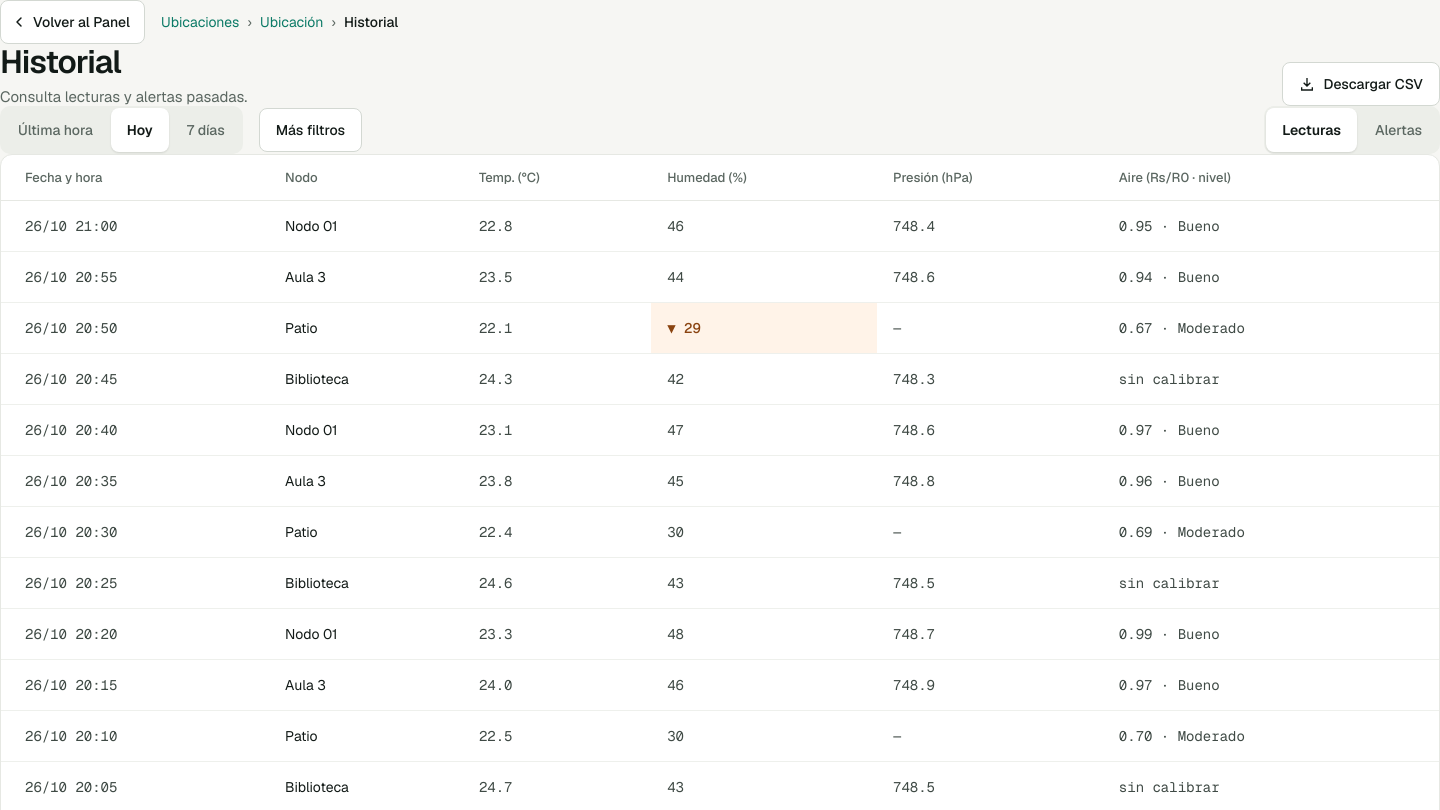
Test: Historial › valida fechas y muestra el estado vacío sin habilitar CSV
Click the button "7 días".
click(206, 130)  # box [171,108,241,152]
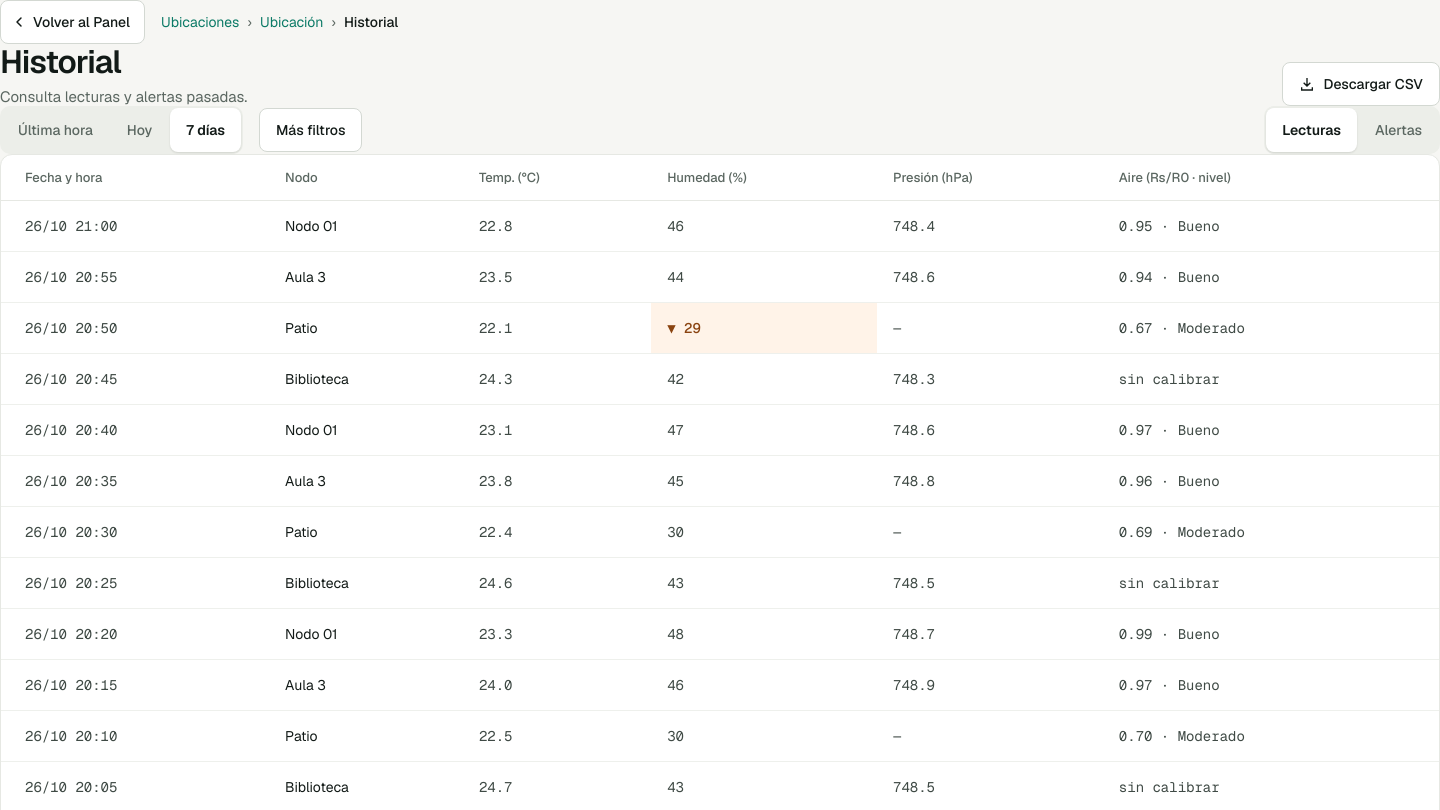
Click the button "Más filtros".
click(311, 130)  # box [259,108,362,152]
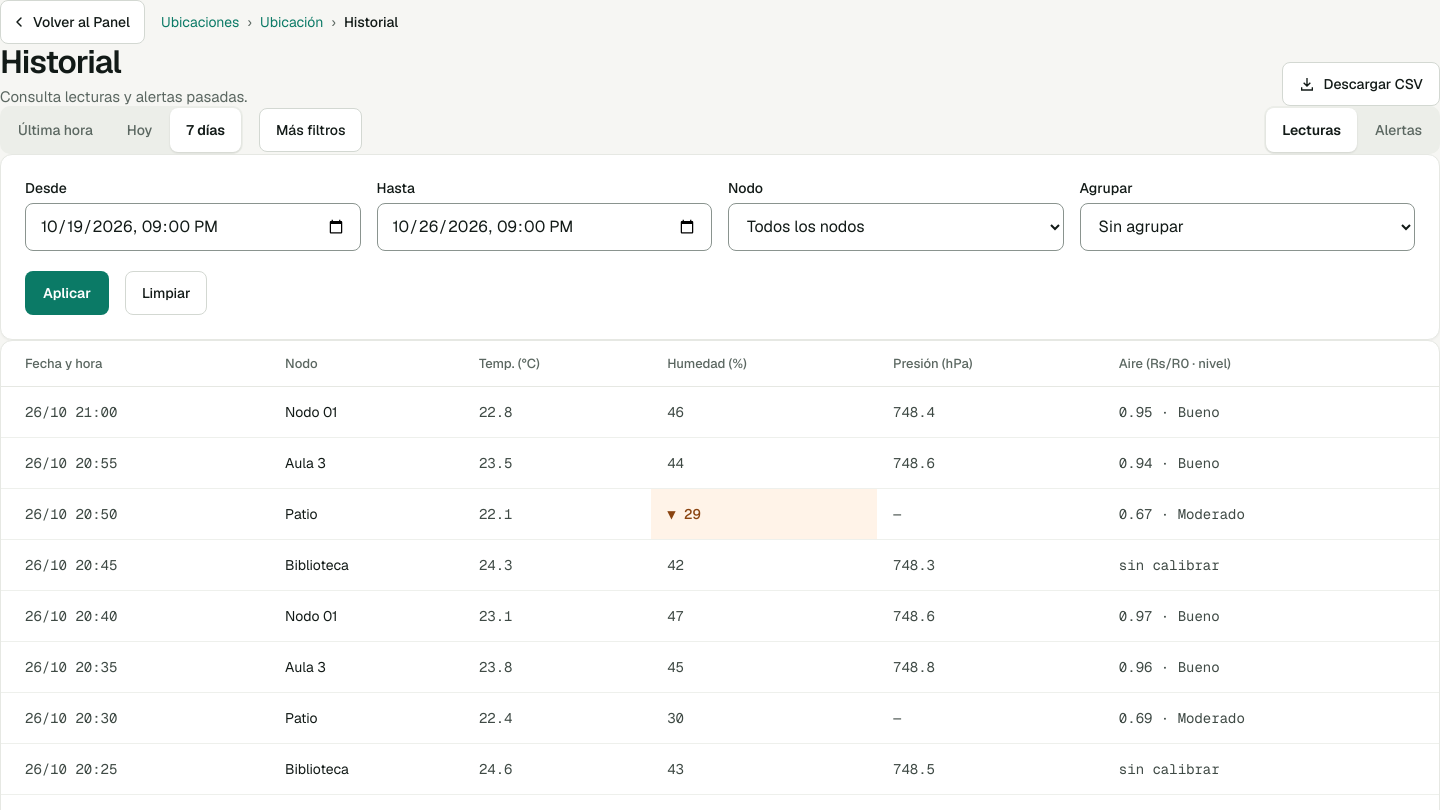
Replace the text in the field labelled "Desde" with "2099-10-18T10:00" at (193, 227), box [25,203,360,251]
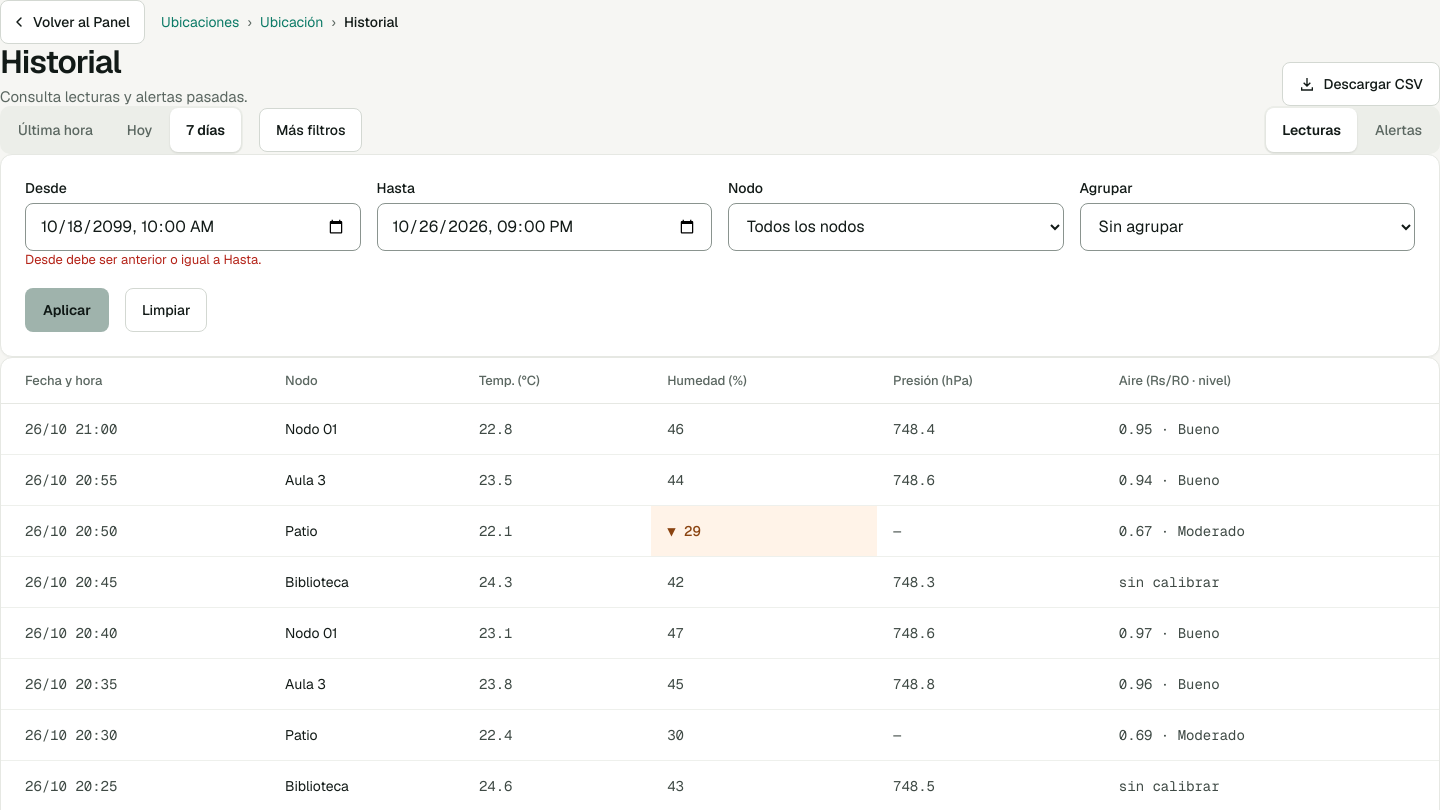
Check: the button "Aplicar" is disabled, box [25,288,109,332]
Check: the message shows "Desde debe ser anterior", box [25,251,261,268]
Replace the text in the field labelled "Hasta" with "2099-10-19T10:00" at (544, 227), box [376,203,712,251]
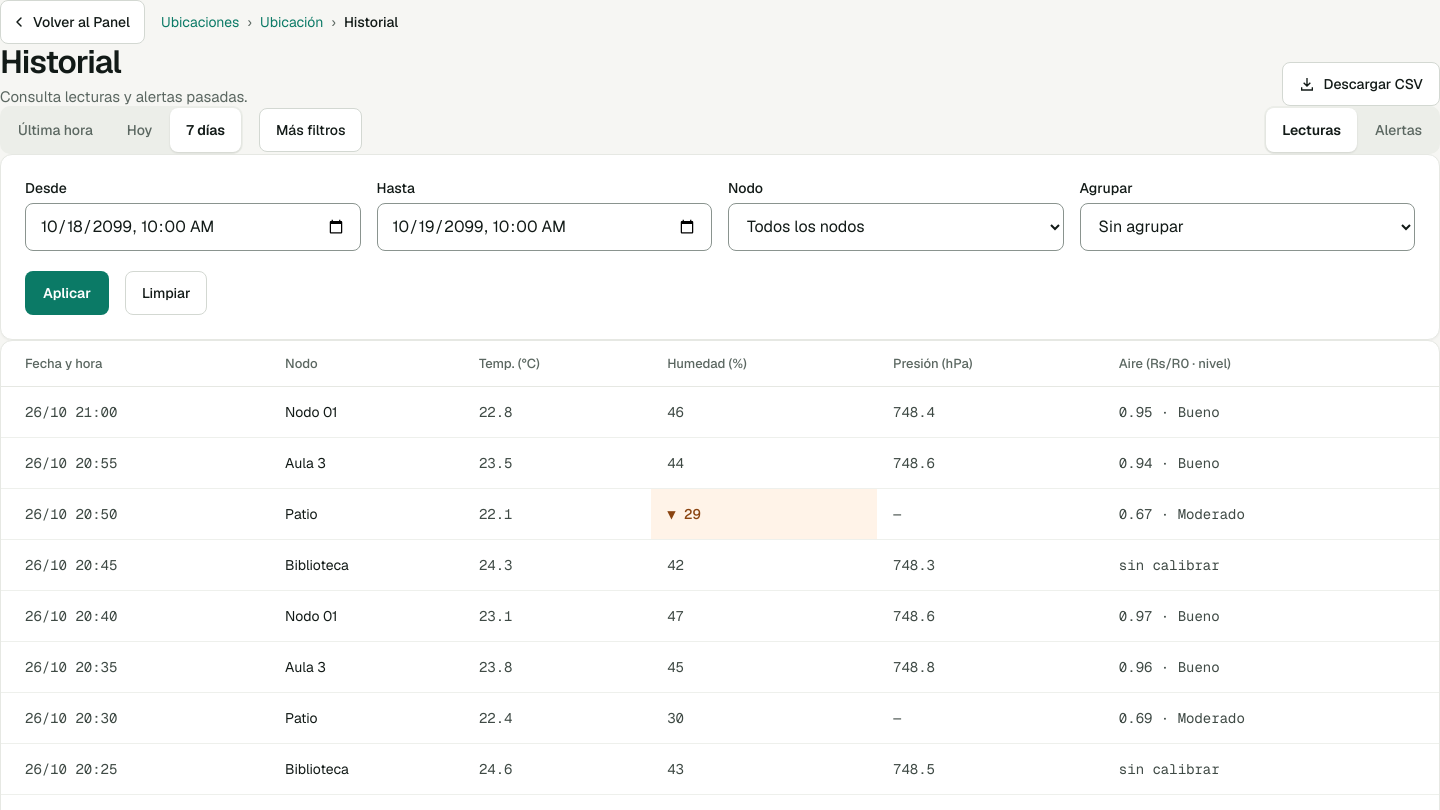
Click the button "Aplicar".
click(67, 293)  # box [25,271,109,315]
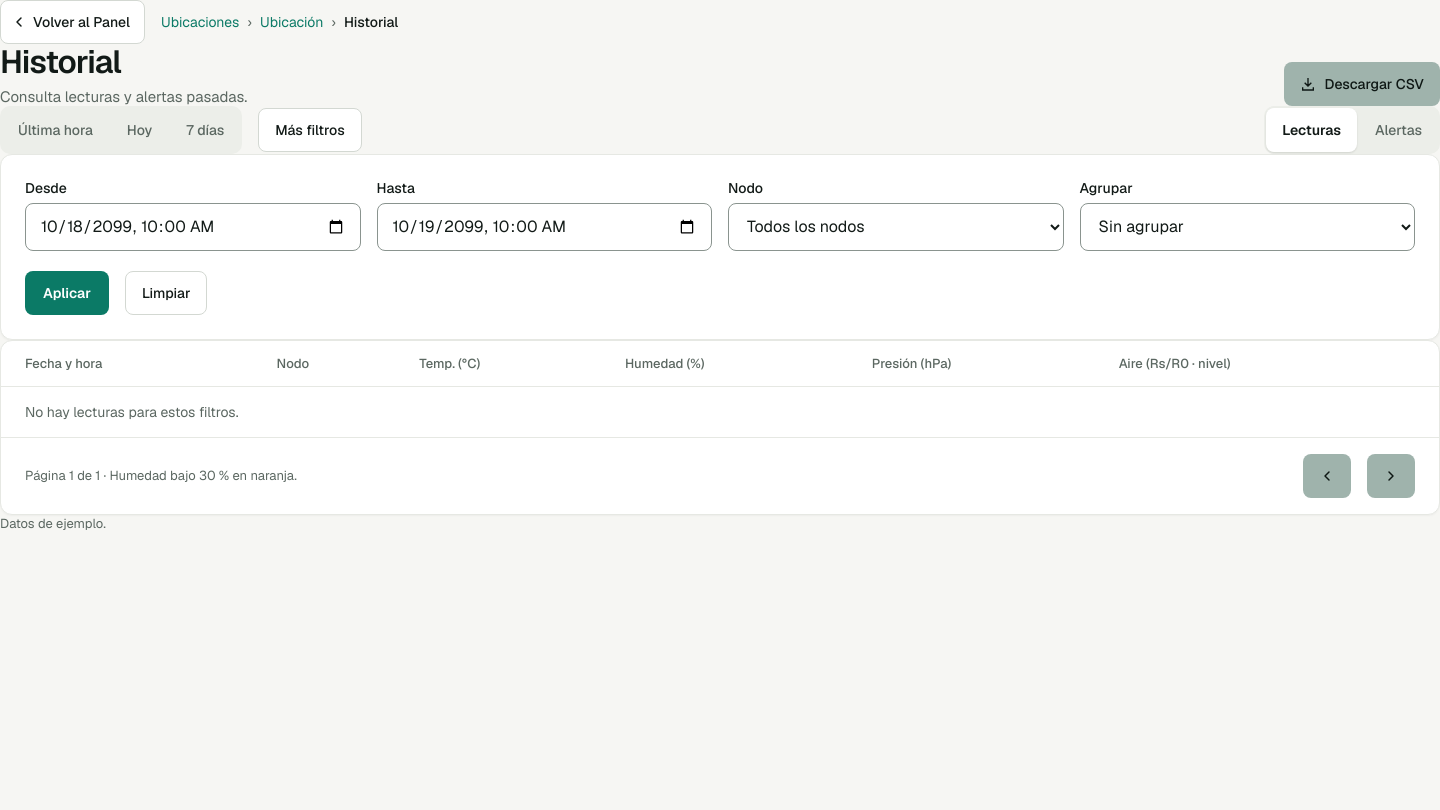
Check: the text "No hay lecturas para estos filtros." is shown, box [1,386,1439,437]
Check: the button "Descargar CSV" is disabled, box [1284,62,1439,106]
Check: the button named "Siguiente" is disabled, box [1367,454,1415,498]
